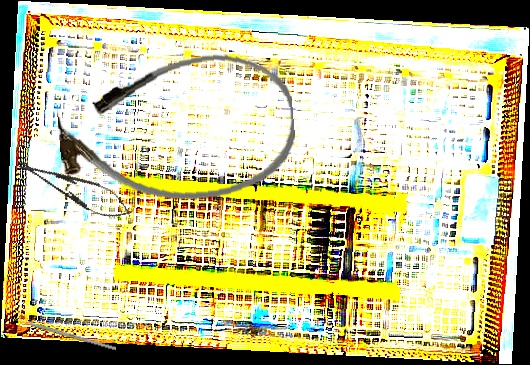Cannula: (53, 48, 300, 211)
Needle Holder: (11, 149, 138, 228)
Pusher: (6, 315, 117, 351)
